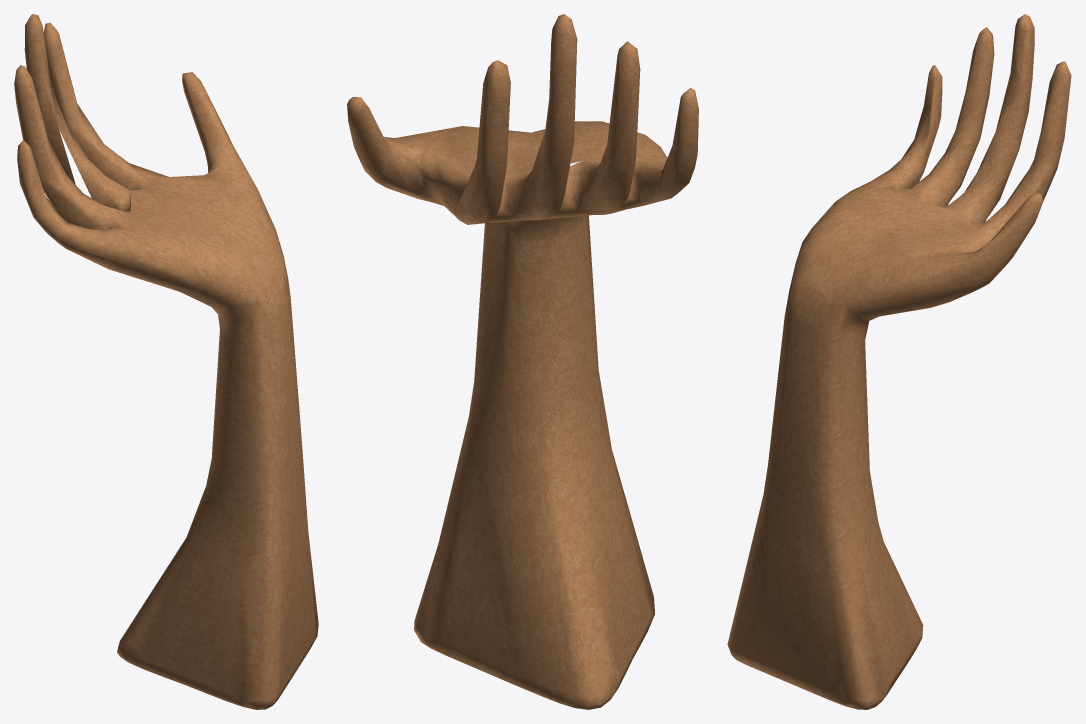
The model's file is arm.glb.
The picture shows the model from 3 angles, left to right: view 1: azimuth 30°, elevation 25°; view 2: azimuth 150°, elevation 25°; view 3: azimuth 270°, elevation 25°; orthographic projection. The views are drawn at different scales.
Visible parts, largest first — view 1: Cylinder01; view 2: Cylinder01; view 3: Cylinder01.
Boxes of the visible parts, x1,y1,x2,y2 form: Cylinder01: [14, 14, 318, 709]; Cylinder01: [347, 14, 698, 709]; Cylinder01: [727, 14, 1071, 709].
Size of the model in its own units: 127 by 283 by 146.
Materials: 1 (1 with a texture image).
